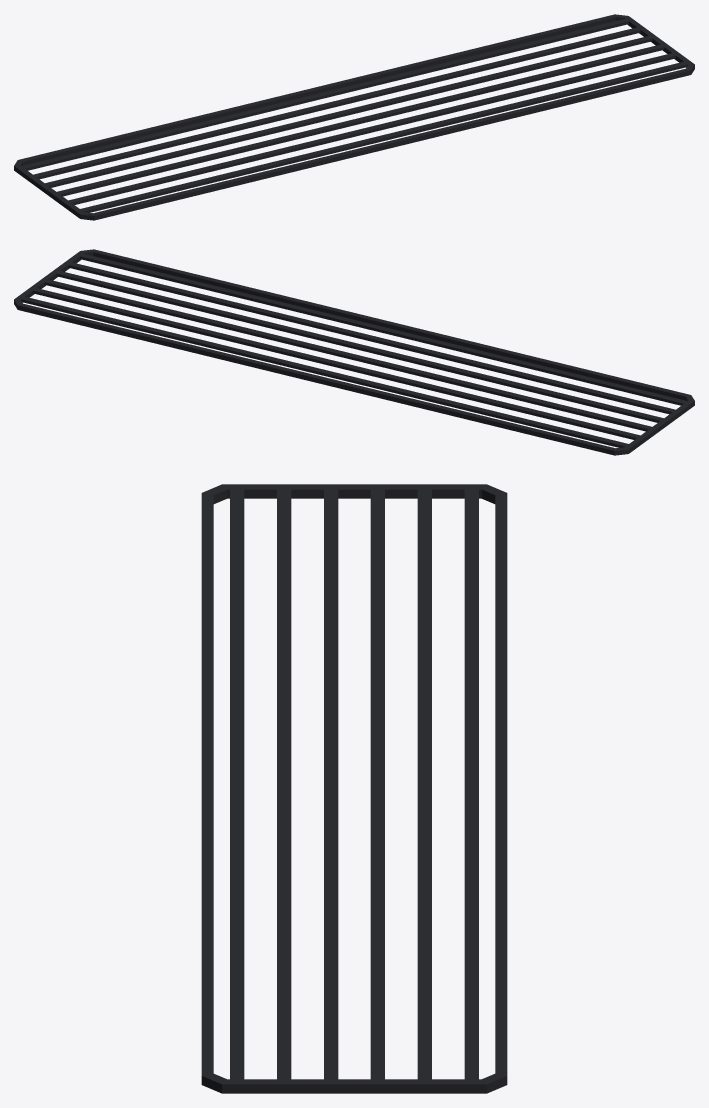
File: SM_Cook_BrazierGrate_01.fbx
3 views of the same model, one above another, from view 1: azimuth 30°, elevation 25°; view 2: azimuth 150°, elevation 25°; view 3: azimuth 270°, elevation 25° (orthographic). The views are drawn at different scales.
Visible parts, largest first — view 1: SM_Cook_BrazierGrate_01; view 2: SM_Cook_BrazierGrate_01; view 3: SM_Cook_BrazierGrate_01.
Part boxes in pixels (x1,y1,x2,y2): SM_Cook_BrazierGrate_01: [14, 14, 694, 220]; SM_Cook_BrazierGrate_01: [14, 249, 694, 455]; SM_Cook_BrazierGrate_01: [201, 484, 507, 1093].
Size of the model in its own units: 1.39 by 0.01 by 0.3.
Materials: 1 (1 with a texture image).
